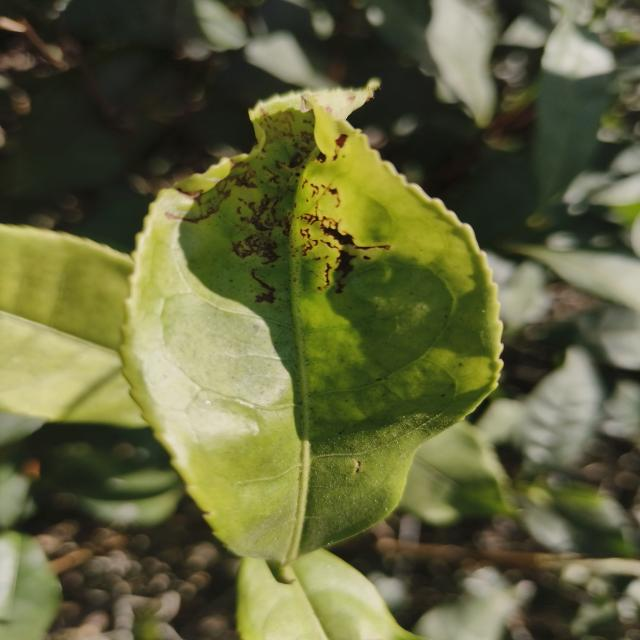Leaf: (124, 90, 499, 563), (0, 225, 146, 428), (365, 0, 498, 127), (237, 549, 418, 640), (534, 3, 616, 201), (398, 421, 511, 526), (520, 346, 603, 470), (514, 245, 640, 313), (0, 530, 61, 640)
